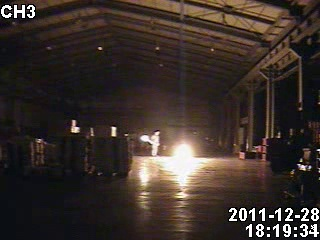fire: (171, 140, 194, 162), (140, 133, 150, 143)
